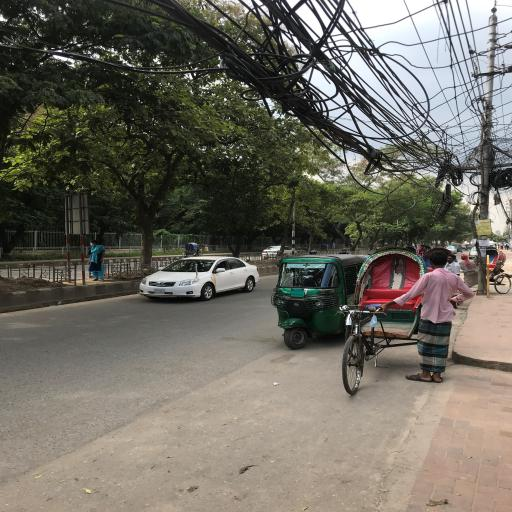car: (137, 256, 261, 302), (261, 246, 299, 259), (444, 247, 458, 254)
rickshaw: (333, 246, 431, 398), (489, 247, 512, 294), (182, 244, 206, 259)
three wheelers (CNG): (270, 254, 371, 350), (454, 245, 464, 254), (466, 245, 474, 252)
